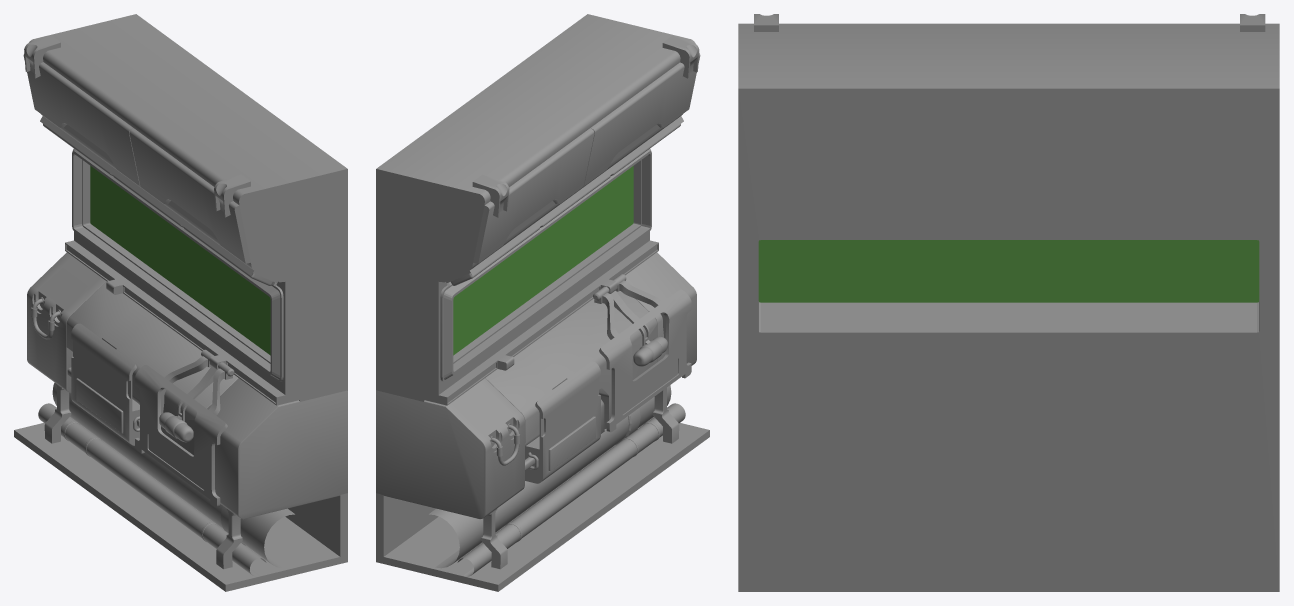
Rendered from window_6.FBX.
3 renders of one model, left to right at view 1: azimuth 30°, elevation 25°; view 2: azimuth 150°, elevation 25°; view 3: azimuth 270°, elevation 25°, orthographic. The views are drawn at different scales.
Visible parts, largest first — view 1: window_low; view 2: window_low; view 3: window_low.
Boxes of the visible parts, <box> form: window_low: <box>14,14,347,591</box>; window_low: <box>376,14,709,591</box>; window_low: <box>738,14,1279,591</box>.
Size of the model in its own units: 1.02 by 3.12 by 3.
